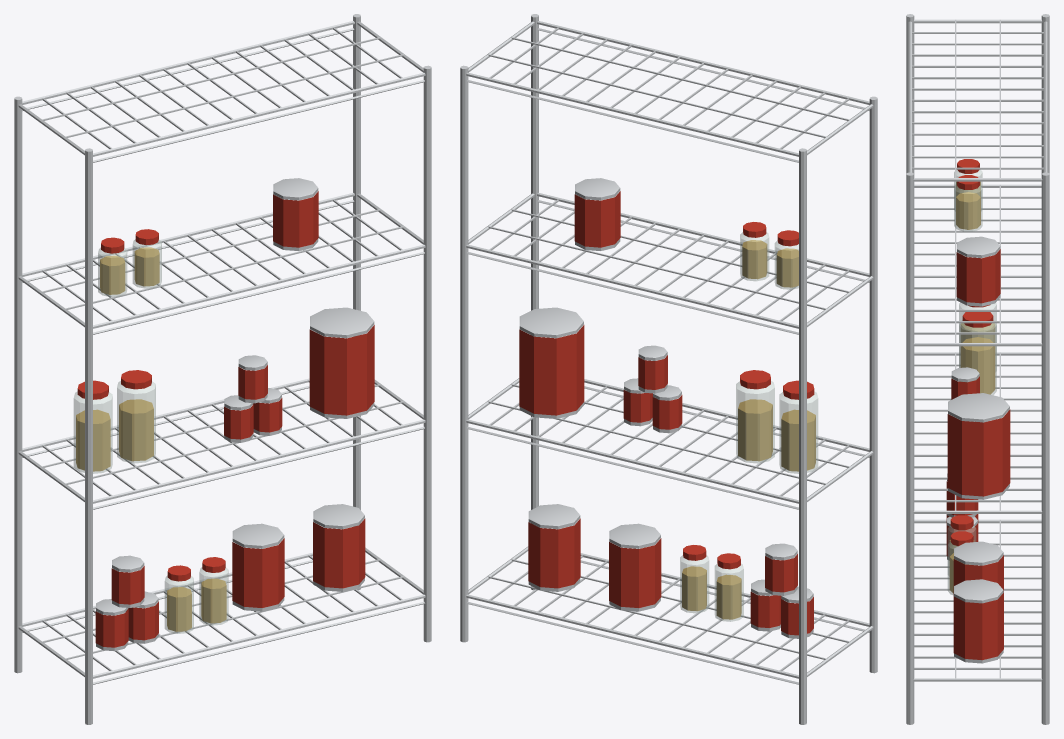
File: rack_wire.glb
3 views of the same model, side by side, from view 1: azimuth 30°, elevation 25°; view 2: azimuth 150°, elevation 25°; view 3: azimuth 270°, elevation 25° (orthographic). The views are drawn at different scales.
Parts seen in each view (by area): view 1: rack_wire, pantry_items_1, pantry_items_2, pantry_items_3; view 2: rack_wire, pantry_items_2, pantry_items_1, pantry_items_3; view 3: rack_wire, pantry_items_2, pantry_items_1, pantry_items_3.
Boxes of the visible parts, left/top/right/bottom form: rack_wire: left=14, top=14, right=431, bottom=724; pantry_items_1: left=95, top=504, right=365, bottom=651; pantry_items_2: left=73, top=307, right=374, bottom=473; pantry_items_3: left=98, top=178, right=318, bottom=296; rack_wire: left=460, top=14, right=877, bottom=724; pantry_items_2: left=519, top=307, right=818, bottom=473; pantry_items_1: left=528, top=504, right=813, bottom=638; pantry_items_3: left=574, top=178, right=798, bottom=289; rack_wire: left=906, top=14, right=1049, bottom=724; pantry_items_2: left=947, top=302, right=1010, bottom=499; pantry_items_1: left=946, top=473, right=1003, bottom=663; pantry_items_3: left=954, top=159, right=1000, bottom=306.
Size of the model in its own units: 1.2 by 1.9 by 0.45.
